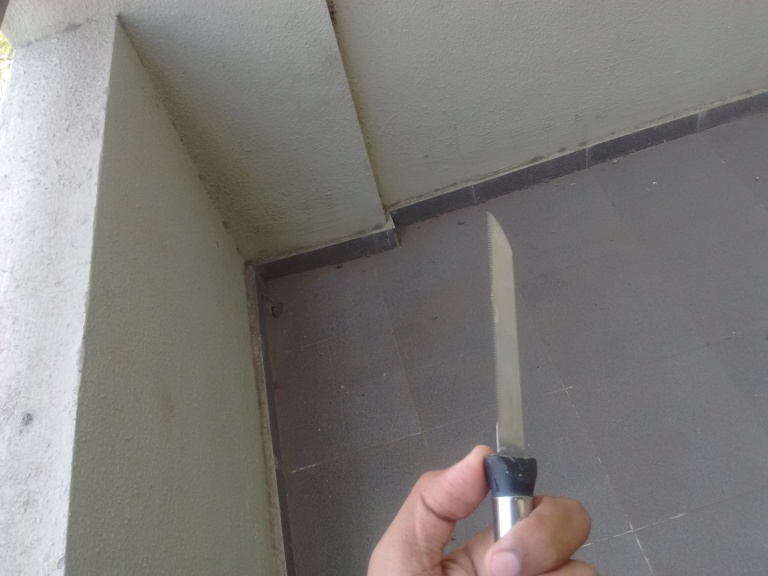knife: (477, 210, 547, 439)
